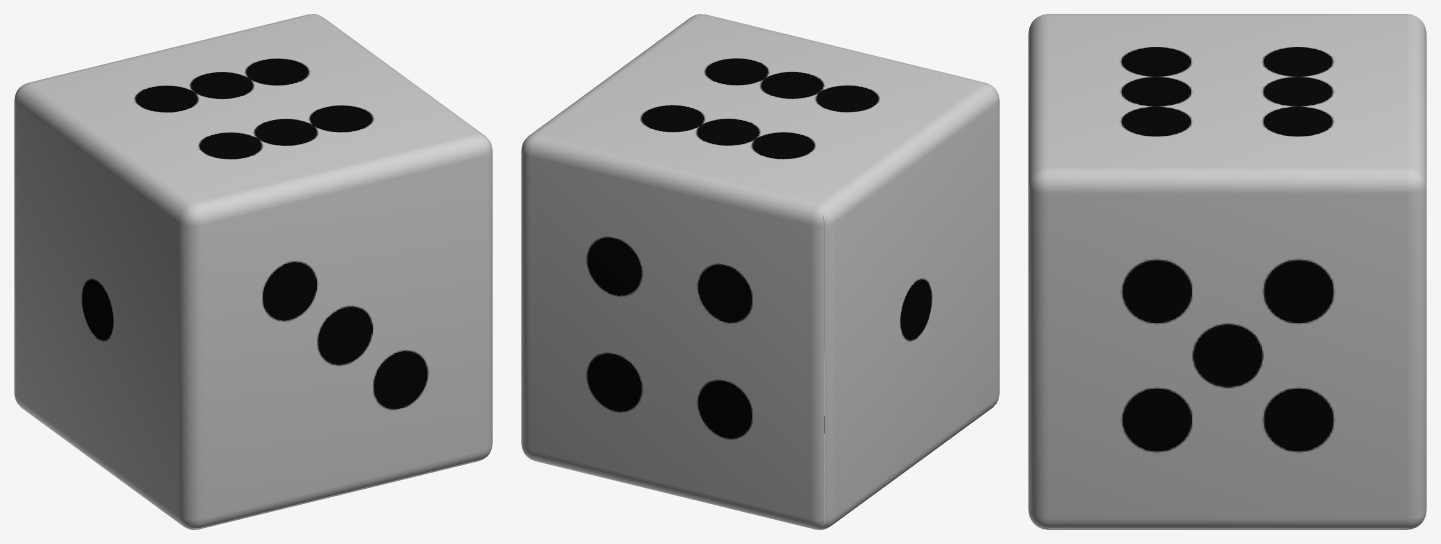
The model's file is dice.fbx.
3 views of the same model, side by side, from view 1: azimuth 30°, elevation 25°; view 2: azimuth 150°, elevation 25°; view 3: azimuth 270°, elevation 25° (orthographic). The views are drawn at different scales.
Parts seen in each view (by area): view 1: Cube; view 2: Cube; view 3: Cube.
Boxes of the visible parts, box(x1,y1,x2,y2) form: Cube: box(14, 14, 492, 529); Cube: box(521, 14, 999, 529); Cube: box(1028, 14, 1426, 529).
Bounding box in the file's own units: 200 × 200 × 200.
